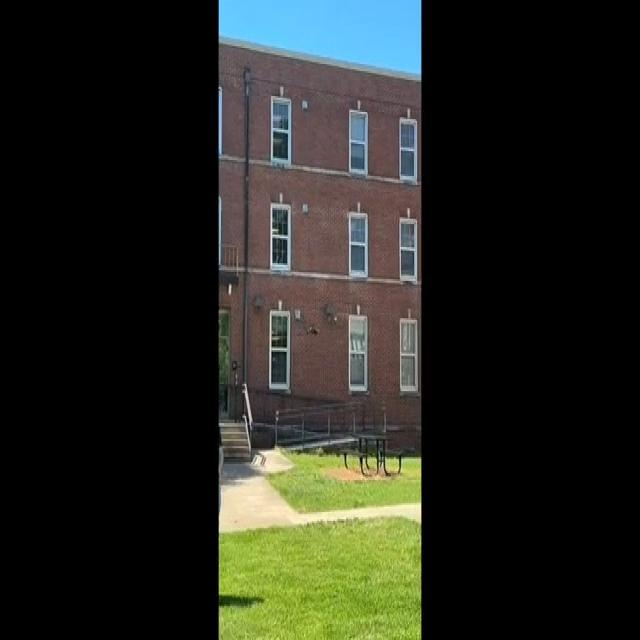drone: (304, 321, 324, 342)
